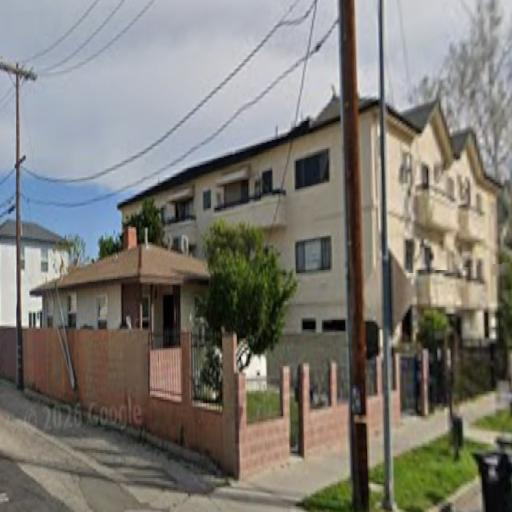poste: (334, 2, 373, 512), (376, 1, 396, 506), (8, 62, 26, 391)
